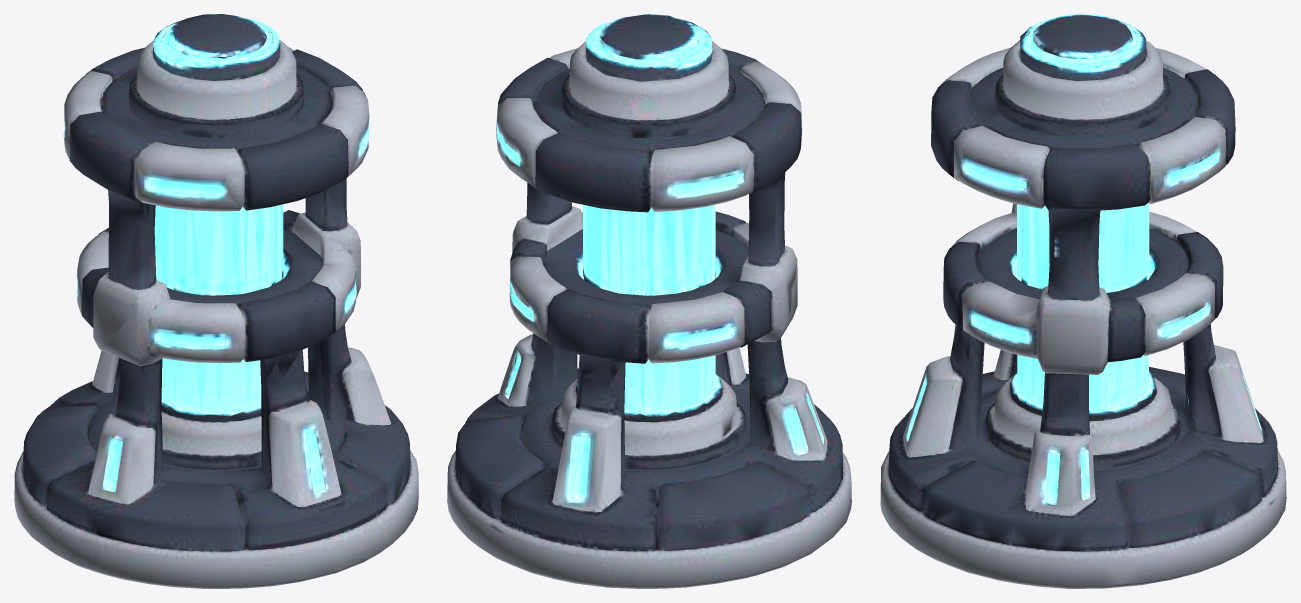
File: warrior-2-tier-1.glb
3 views of the same model, side by side, from view 1: azimuth 30°, elevation 25°; view 2: azimuth 150°, elevation 25°; view 3: azimuth 270°, elevation 25° (orthographic).
Parts seen in each view (by area): view 1: moving-assembly, fixed-platform; view 2: moving-assembly, fixed-platform; view 3: moving-assembly, fixed-platform.
Part boxes in pixels (left/top/right/bottom): moving-assembly: left=63, top=14, right=369, bottom=383; fixed-platform: left=14, top=324, right=418, bottom=588; moving-assembly: left=496, top=14, right=802, bottom=384; fixed-platform: left=447, top=333, right=851, bottom=588; moving-assembly: left=931, top=14, right=1235, bottom=374; fixed-platform: left=880, top=326, right=1286, bottom=588.
Size of the model in its own units: 0.8262 by 1.06 by 0.8272.
Materials: 1 (1 with a texture image).
